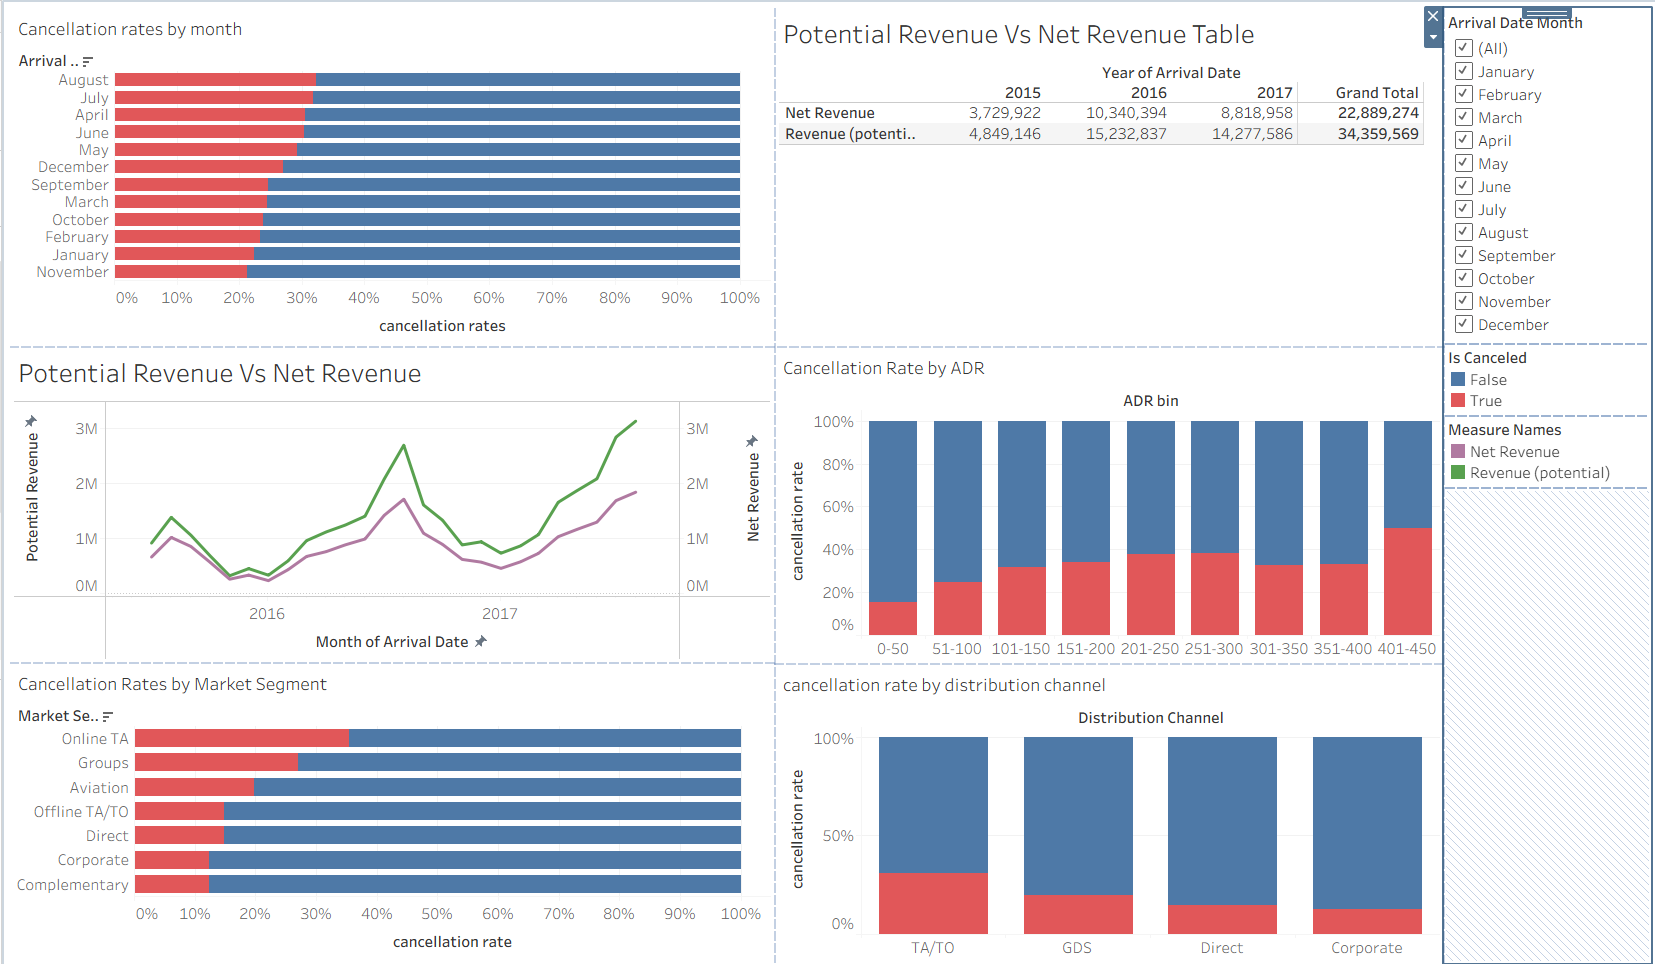

Layout of this report page (visuals, bound fields, positions):
{"tool":"tableau","page":{"name":"Dashboard 1","canvas":[1000,1000],"units":"permille","ordinal":0},"visuals":[{"type":"worksheet","title":"Cancellation rates by month","mark":"Automatic","rows":["ArrivalDateMonth"],"cols":["combhotel_clean_df_v2.csv_54CA162CFF6D45AE90E009B2AB35D63E"],"box":[4.8,8.2,461.7,348.7]},{"type":"worksheet","title":"Potential Revenue Vs Net Revenue Table","mark":"Automatic","cols":["ArrivalDate"],"box":[466.5,8.2,403.9,348.7]},{"type":"filter","title":"Cancellation Rate by ADR","param":"[federated.1xini4718j2yyp0zxs7yv03ztyl7].[none:ArrivalDateMonth:nk]","box":[870.4,8.2,124.8,345]},{"type":"legend","title":"Cancellation rates by month","param":"[federated.1xini4718j2yyp0zxs7yv03ztyl7].[none:IsCanceled:nk]","box":[870.4,353.2,124.8,74.2]},{"type":"worksheet","title":"Potential Revenue Vs Net Revenue","mark":"Line","rows":["Calculation_767019314104696832","Revenue (copy)_1701797711875563520"],"cols":["ArrivalDate"],"box":[4.8,357,461.7,326.2]},{"type":"worksheet","title":"Cancellation Rate by ADR","mark":"Automatic","cols":["ADR_bin"],"box":[466.5,357,403.9,326.8]},{"type":"legend","title":"Potential Revenue Vs Net Revenue","param":"[federated.1xini4718j2yyp0zxs7yv03ztyl7].[:Measure Names]","box":[870.4,427.4,124.8,74.2]},{"type":"worksheet","title":"Cancellation Rates by Market Segment","mark":"Automatic","rows":["MarketSegment"],"cols":["combhotel_clean_df_v2.csv_54CA162CFF6D45AE90E009B2AB35D63E"],"box":[4.8,683.1,461.7,308.6]},{"type":"worksheet","title":"cancellation rate by distribution channel","mark":"Automatic","cols":["DistributionChannel"],"box":[466.5,683.8,403.9,308]}]}

Visuals, with their boxes on the dashboard's canvas, which has no fixed pixel size, in thousandths of its width and height (x1, y1, x2, y2). These are canvas units, not pixel positions in the 1655x964 screenshot, which may show the page scaled, cropped or inside an application window:
"Cancellation rates by month" worksheet: x1=5 y1=8 x2=466 y2=357
"Potential Revenue Vs Net Revenue Table" worksheet: x1=466 y1=8 x2=870 y2=357
"Cancellation Rate by ADR" filter: x1=870 y1=8 x2=995 y2=353
"Cancellation rates by month" legend: x1=870 y1=353 x2=995 y2=427
"Potential Revenue Vs Net Revenue" worksheet (Line marks): x1=5 y1=357 x2=466 y2=683
"Cancellation Rate by ADR" worksheet: x1=466 y1=357 x2=870 y2=684
"Potential Revenue Vs Net Revenue" legend: x1=870 y1=427 x2=995 y2=502
"Cancellation Rates by Market Segment" worksheet: x1=5 y1=683 x2=466 y2=992
"cancellation rate by distribution channel" worksheet: x1=466 y1=684 x2=870 y2=992
